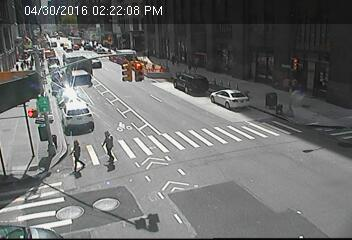neg: (22, 95, 49, 132), (15, 154, 41, 188), (80, 71, 104, 103), (130, 200, 153, 232), (125, 52, 148, 83), (199, 160, 220, 189), (232, 133, 251, 157), (227, 84, 245, 108), (264, 85, 280, 106), (183, 124, 198, 144), (188, 69, 203, 88), (302, 100, 316, 119), (225, 43, 239, 62), (304, 144, 313, 156)
pos: (92, 125, 120, 164), (67, 135, 94, 172)
